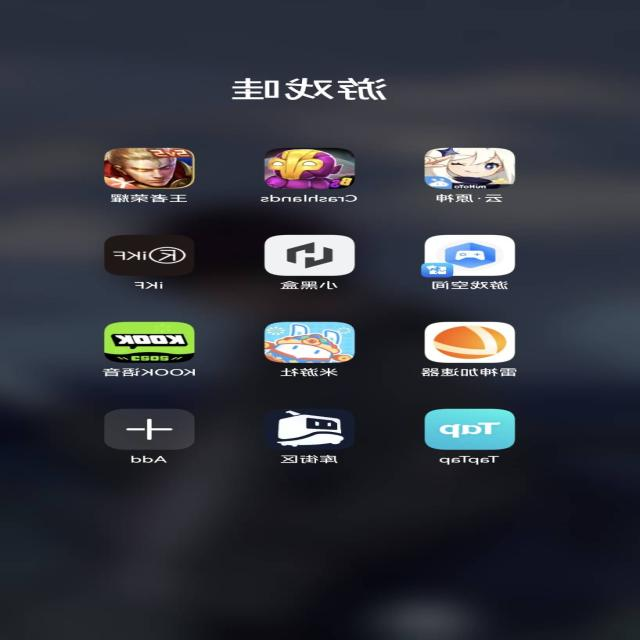Icon: (419, 235, 516, 278), (264, 148, 355, 190), (425, 408, 516, 450), (264, 408, 355, 450), (102, 322, 196, 362), (425, 147, 516, 188), (102, 147, 193, 188), (264, 235, 355, 276), (102, 235, 193, 276), (264, 322, 355, 363), (425, 322, 516, 363), (105, 408, 193, 450), (446, 243, 495, 268)
